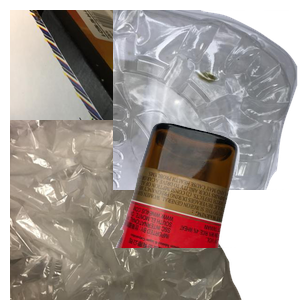cardboard: (10, 10, 238, 190)
glass: (113, 120, 300, 300)
plastic: (113, 10, 300, 190)
trash: (10, 120, 244, 300)
